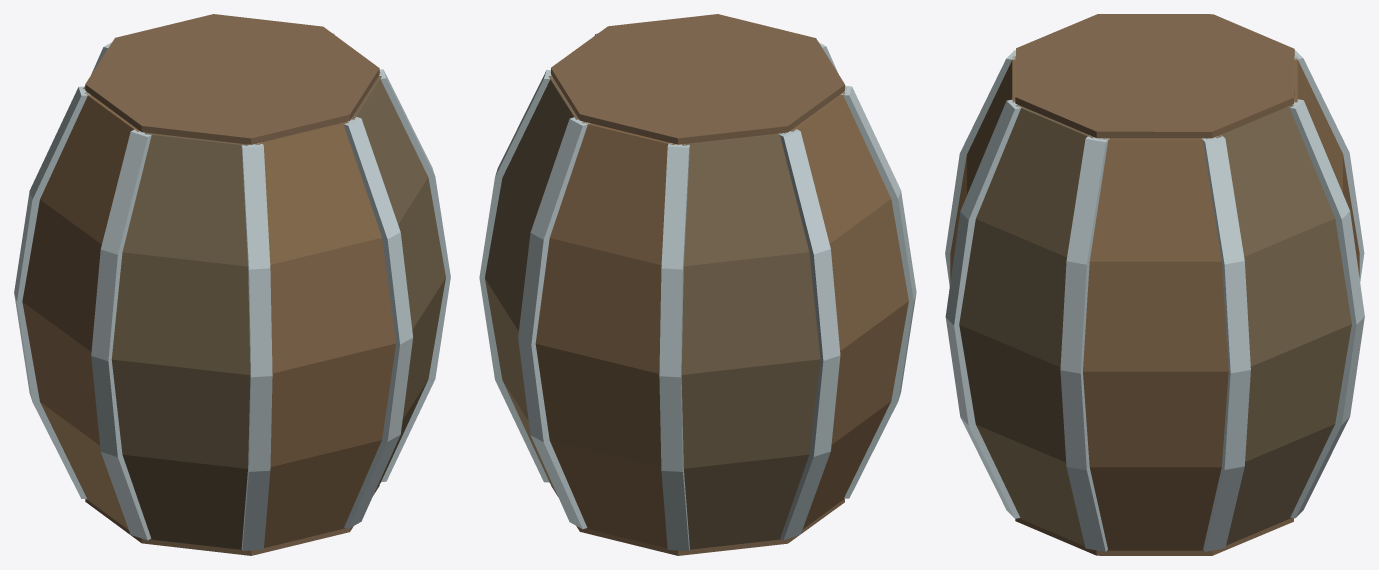
File: Barrel_2.fbx
The picture shows the model from 3 angles, left to right: view 1: azimuth 30°, elevation 25°; view 2: azimuth 150°, elevation 25°; view 3: azimuth 270°, elevation 25°; orthographic projection.
Visible parts, largest first — view 1: Barrel_2; view 2: Barrel_2; view 3: Barrel_2.
Part boxes in pixels (box(x1,y1,x2,y2)): Barrel_2: box(14, 14, 450, 555); Barrel_2: box(479, 14, 916, 555); Barrel_2: box(945, 14, 1364, 555).
Bounding box in the file's own units: 57.58 × 64.18 × 57.58.
1 material, 1 textured.
